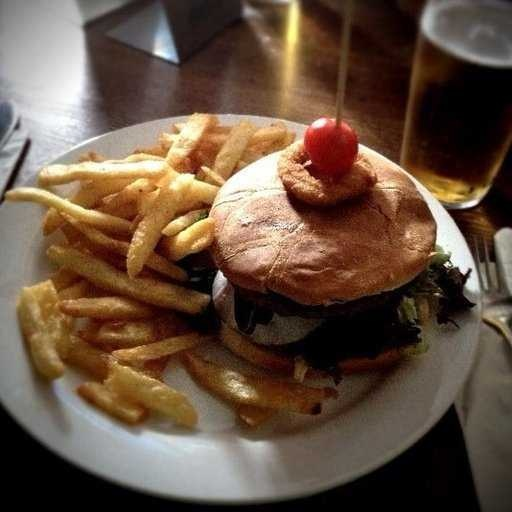hamburger: (206, 143, 439, 376)
